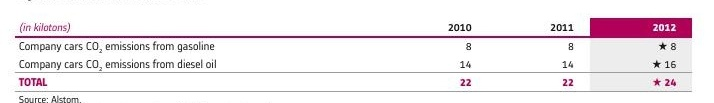table: (0, 0, 714, 103)
